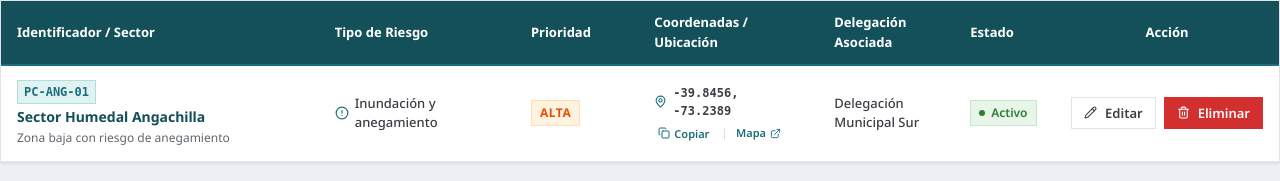
it: PuntosCriticosTabla › debe permitir copiar las coordenadas al portapapeles
The width and height of the screenshot is (1280, 181).
Click the button "Copiar" at (684, 134), box [654, 124, 713, 143]
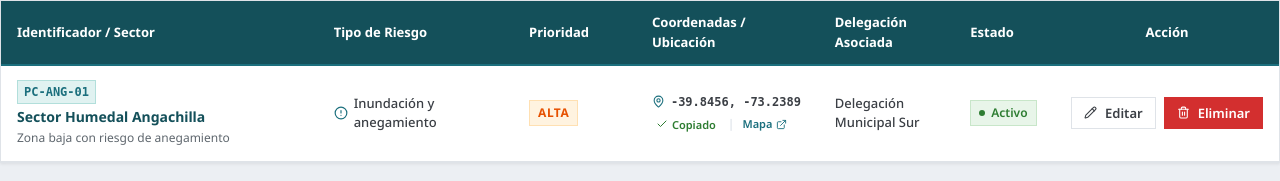
Expected: the text "Copiado" is shown, [672, 117, 716, 132]
